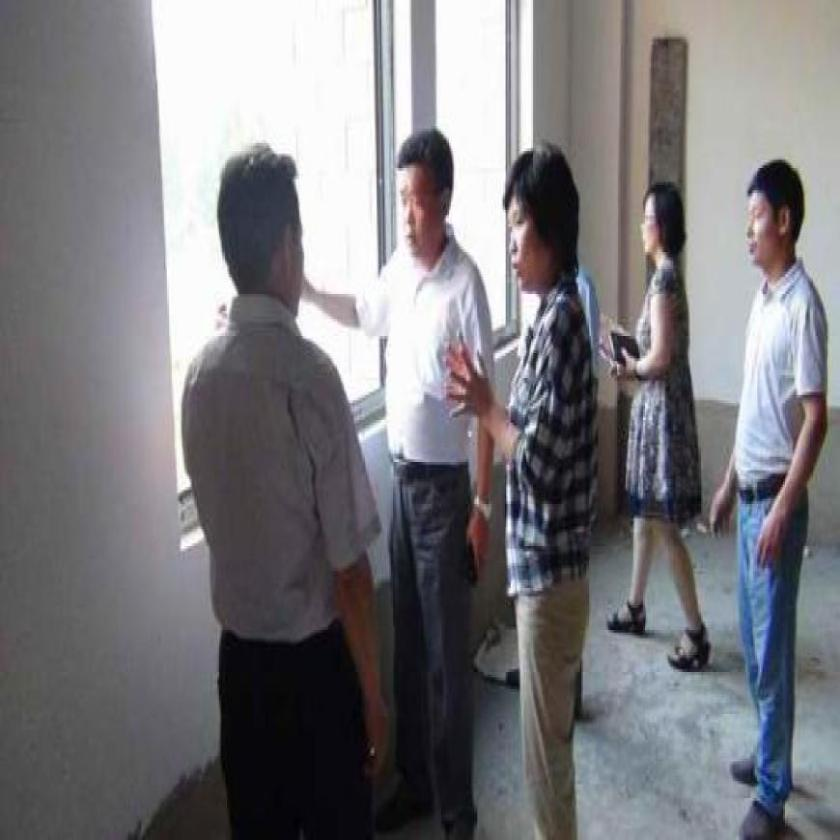Sin_casco: (209, 141, 327, 329), (504, 146, 580, 296), (391, 120, 458, 270), (742, 153, 810, 284), (636, 179, 688, 266)
